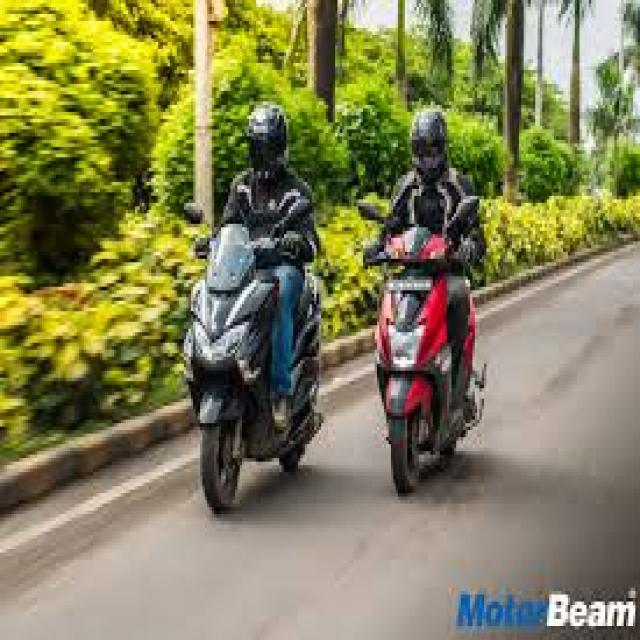Scooty: (170, 94, 332, 514), (372, 90, 492, 505)
